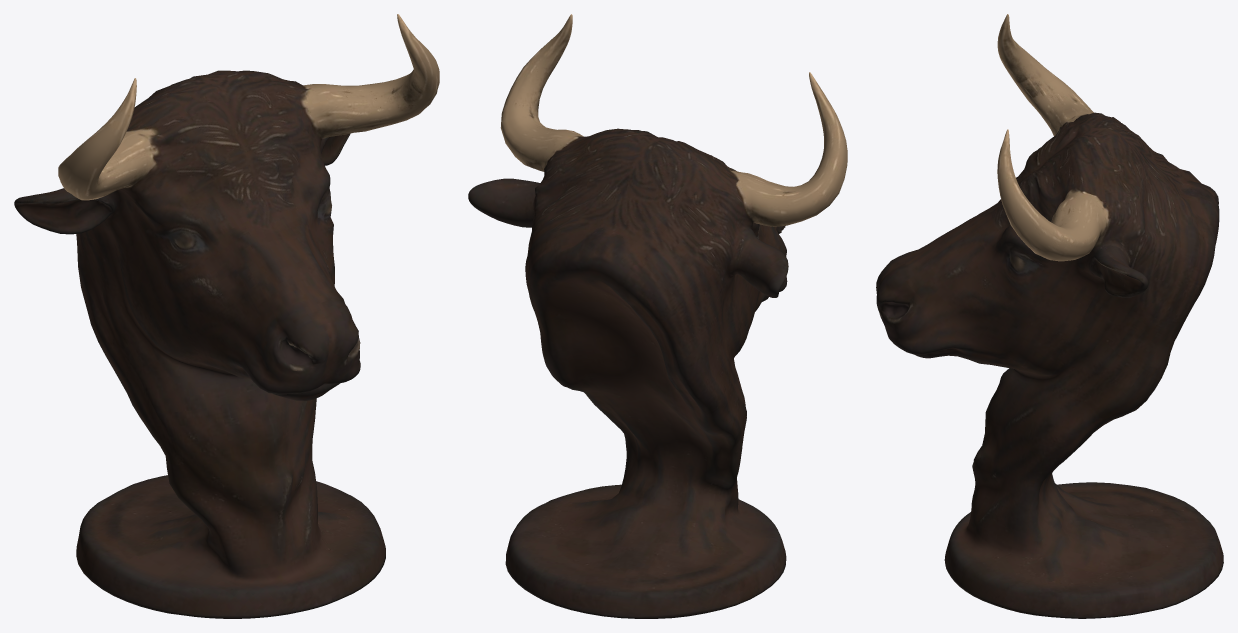
The model's file is bull_head.glb.
3 views of the same model, side by side, from view 1: azimuth 30°, elevation 25°; view 2: azimuth 150°, elevation 25°; view 3: azimuth 270°, elevation 25° (orthographic). The views are drawn at different scales.
Visible parts, largest first — view 1: bull_head_mesh; view 2: bull_head_mesh; view 3: bull_head_mesh.
Boxes of the visible parts, box(x1,y1,x2,y2) form: bull_head_mesh: box(14, 14, 439, 618); bull_head_mesh: box(468, 14, 847, 618); bull_head_mesh: box(876, 14, 1223, 618).
Bounding box in the file's own units: 0.3064 × 0.433 × 0.2807.
1 material, 1 textured.
